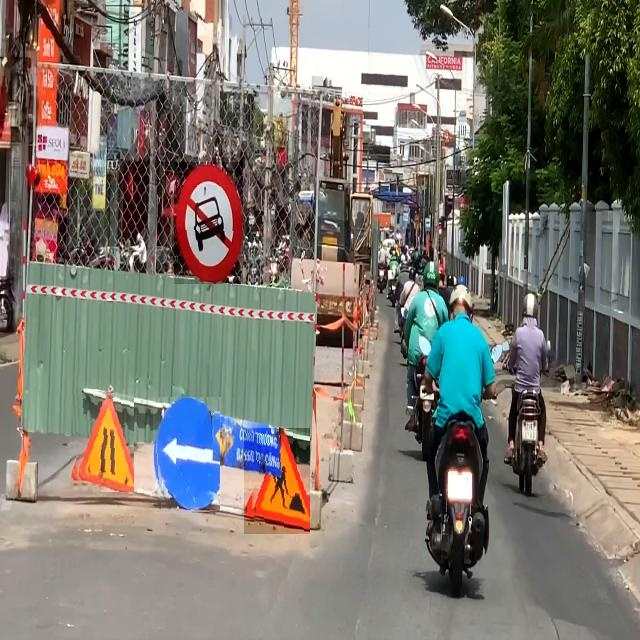bien_nguy_hiem: (174, 162, 243, 284), (154, 397, 222, 514), (244, 428, 310, 534), (70, 389, 134, 494)
